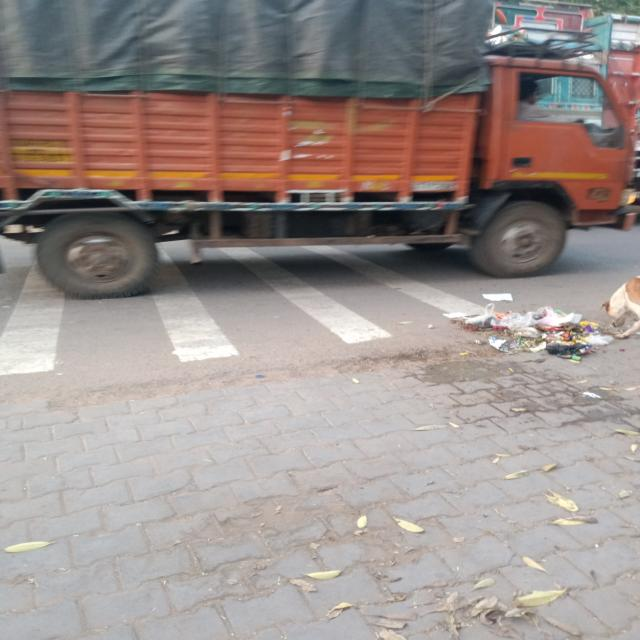Truck: (0, 6, 640, 273)
